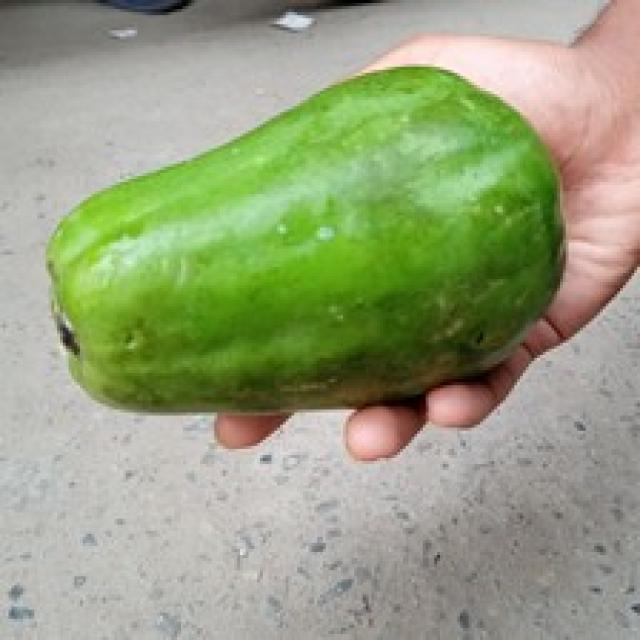organik: (30, 49, 574, 381)
